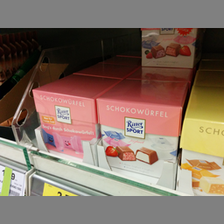chocolate: (98, 80, 189, 174), (28, 72, 109, 164), (136, 30, 196, 68)
